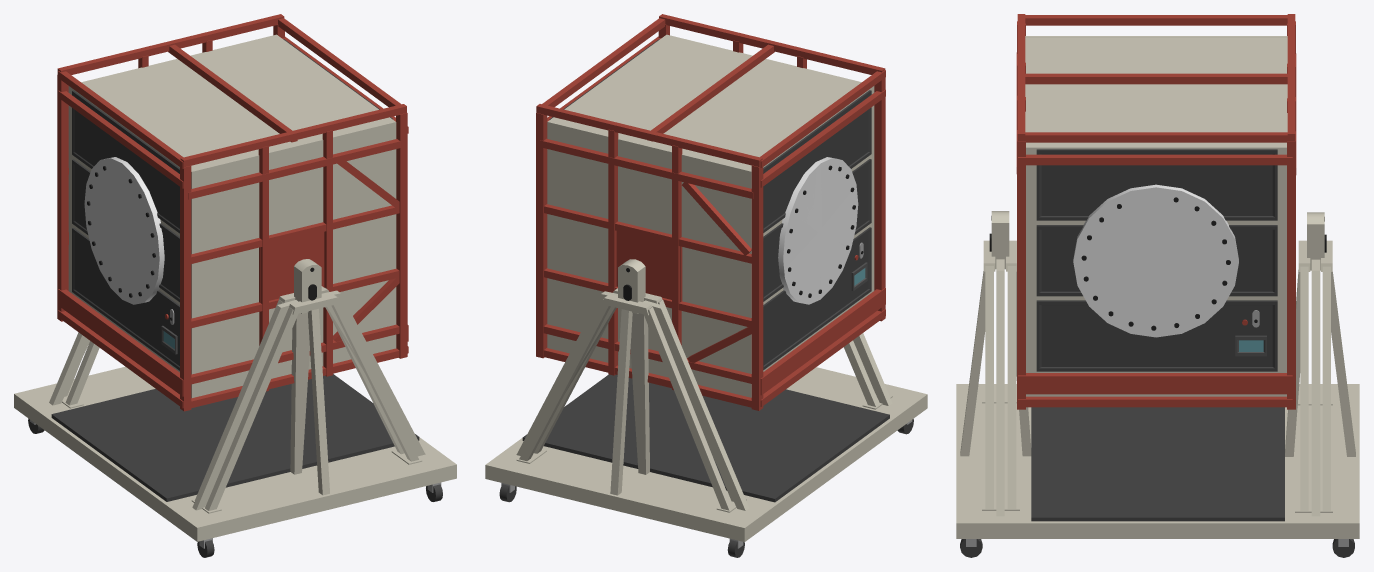
File: z_hong_04.fbx
3 views of the same model, side by side, from view 1: azimuth 30°, elevation 25°; view 2: azimuth 150°, elevation 25°; view 3: azimuth 270°, elevation 25° (orthographic). The views are drawn at different scales.
Visible parts, largest first — view 1: hong_04; view 2: hong_04; view 3: hong_04.
Part boxes in pixels (x1,y1,x2,y2): hong_04: (14,14,456,557); hong_04: (485,14,927,557); hong_04: (956,14,1359,557).
Size of the model in its own units: 304 by 426 by 372.
